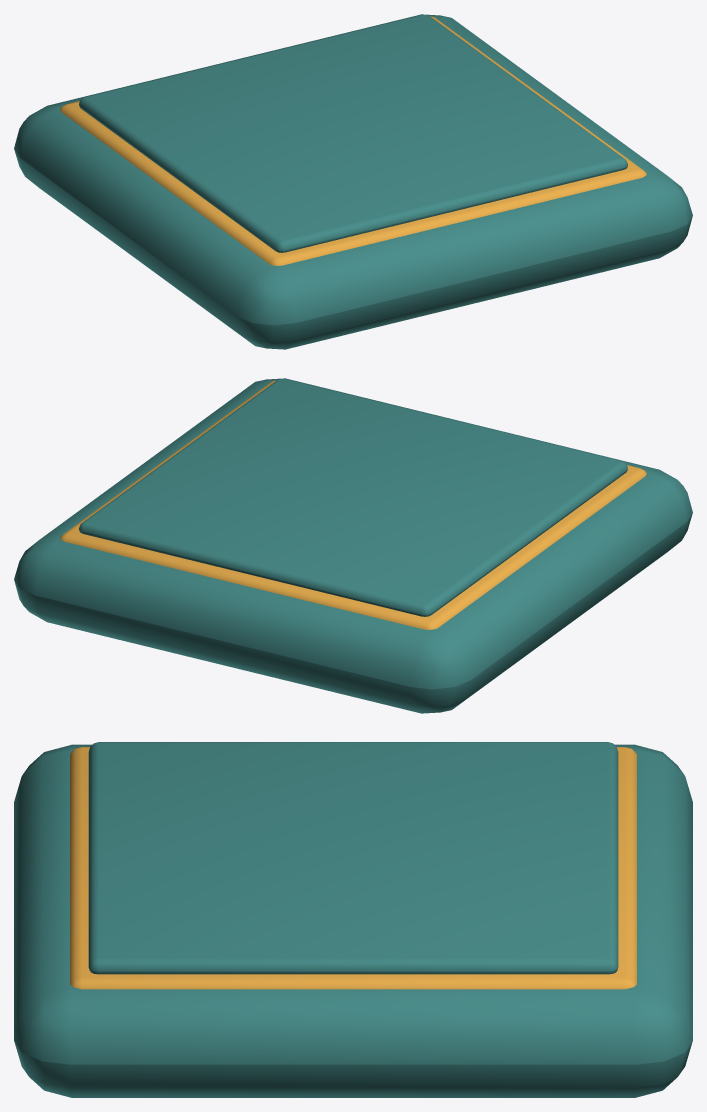
File: tile.glb
3 renders of one model, top to bottom at view 1: azimuth 30°, elevation 25°; view 2: azimuth 150°, elevation 25°; view 3: azimuth 270°, elevation 25°, orthographic. The views are drawn at different scales.
Parts seen in each view (by area): view 1: Teal playable face, Island tile, Brass tile inset; view 2: Teal playable face, Island tile, Brass tile inset; view 3: Teal playable face, Island tile, Brass tile inset.
Part boxes in pixels (bbox=[...]): Teal playable face: bbox=[79, 14, 627, 252]; Island tile: bbox=[14, 14, 692, 349]; Brass tile inset: bbox=[60, 16, 646, 265]; Teal playable face: bbox=[79, 378, 627, 616]; Island tile: bbox=[14, 378, 692, 713]; Brass tile inset: bbox=[60, 380, 646, 629]; Teal playable face: bbox=[88, 742, 618, 974]; Island tile: bbox=[14, 744, 692, 1097]; Brass tile inset: bbox=[70, 747, 636, 989].
Size of the model in its own units: 2 by 0.4 by 2.
